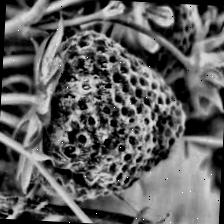Powdery Mildew Fruit: (25, 24, 190, 206)
